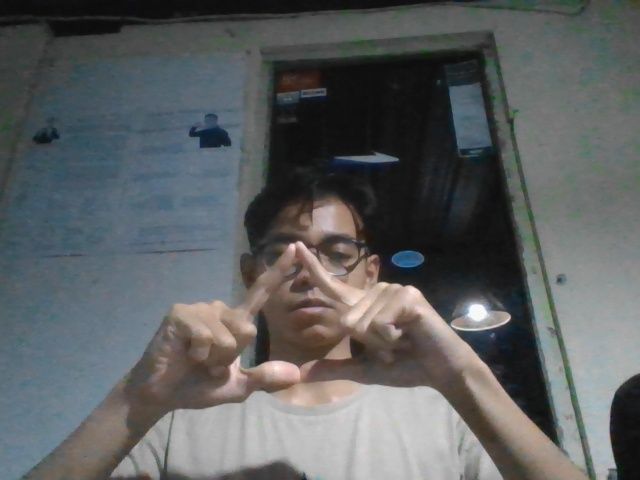A: (141, 237, 473, 412)
